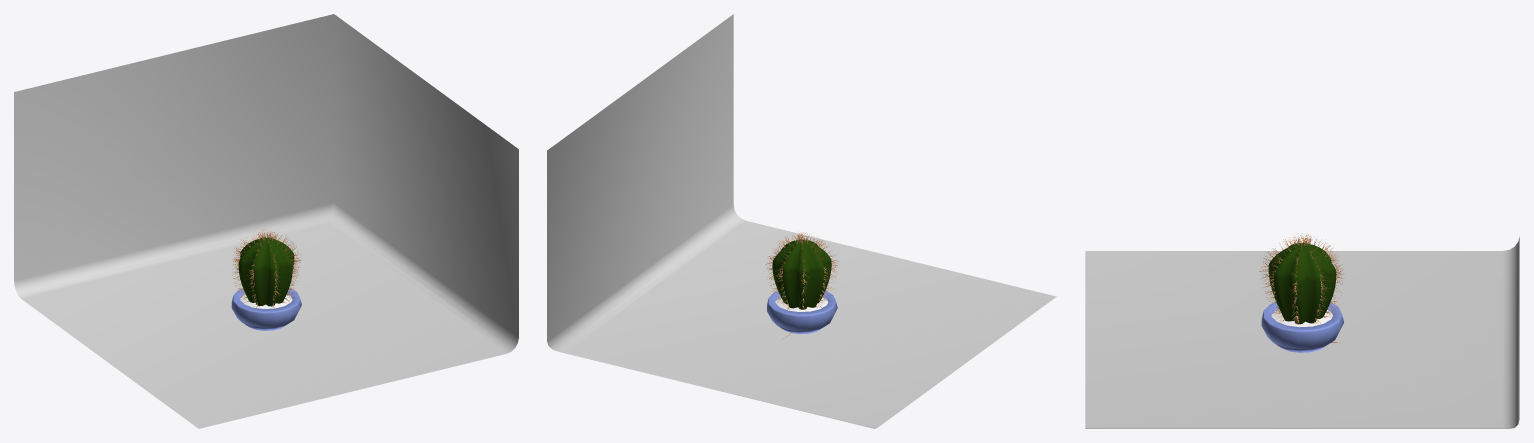
The model's file is Cactus.glb.
3 views of the same model, side by side, from view 1: azimuth 30°, elevation 25°; view 2: azimuth 150°, elevation 25°; view 3: azimuth 270°, elevation 25° (orthographic). The views are drawn at different scales.
Visible parts, largest first — view 1: Плоскость, Цилиндр.001, Цилиндр; view 2: Плоскость, Цилиндр.001, Цилиндр; view 3: Плоскость, Цилиндр.001, Цилиндр.
Boxes of the visible parts, bbox=[...] form: Плоскость: bbox=[14, 14, 518, 428]; Цилиндр.001: bbox=[238, 237, 294, 306]; Цилиндр: bbox=[231, 288, 301, 330]; Плоскость: bbox=[547, 14, 1056, 428]; Цилиндр.001: bbox=[772, 239, 831, 309]; Цилиндр: bbox=[767, 290, 837, 334]; Плоскость: bbox=[1085, 236, 1519, 428]; Цилиндр.001: bbox=[1268, 242, 1336, 324]; Цилиндр: bbox=[1261, 302, 1343, 352].
Size of the model in its own units: 12.6 by 7.62 by 12.6.
